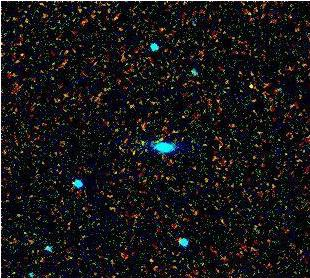star: (236, 65, 266, 95)
